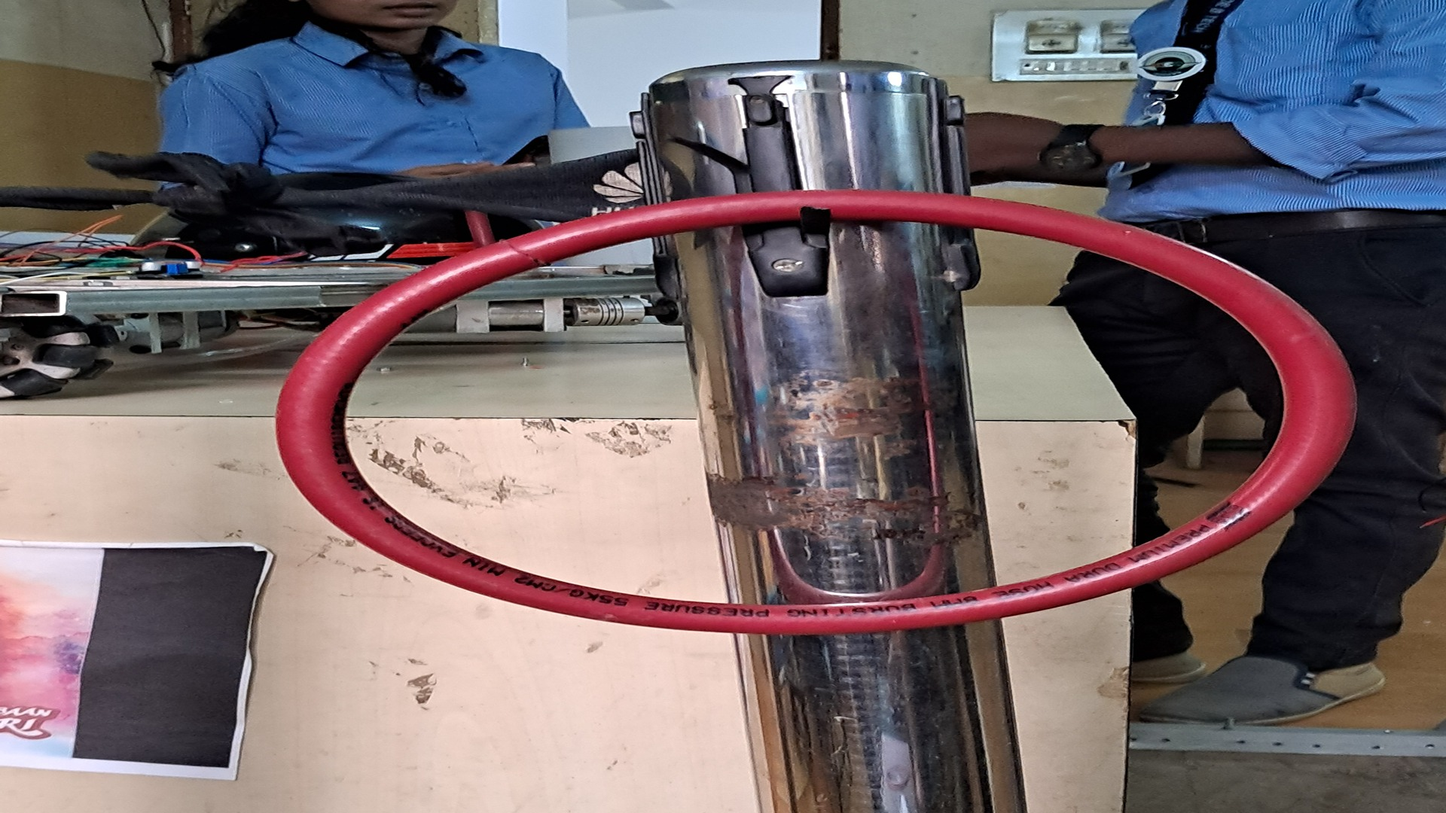Red ring: (273, 195, 1344, 631)
